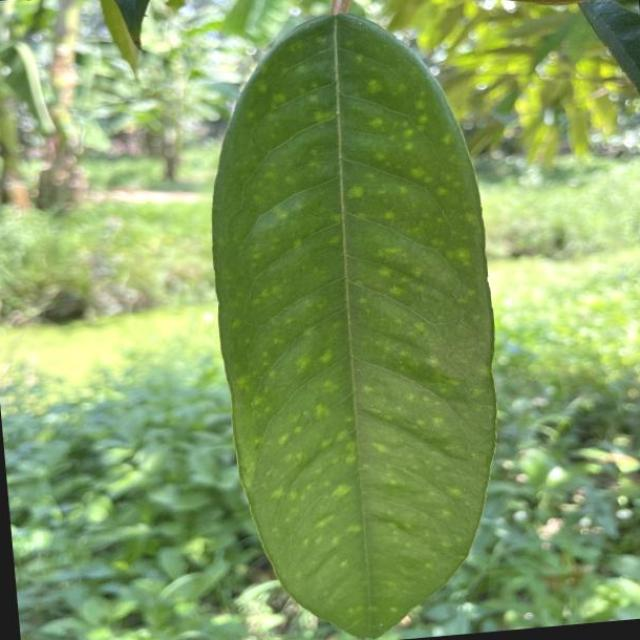Leaf Spot: (174, 0, 530, 640)
